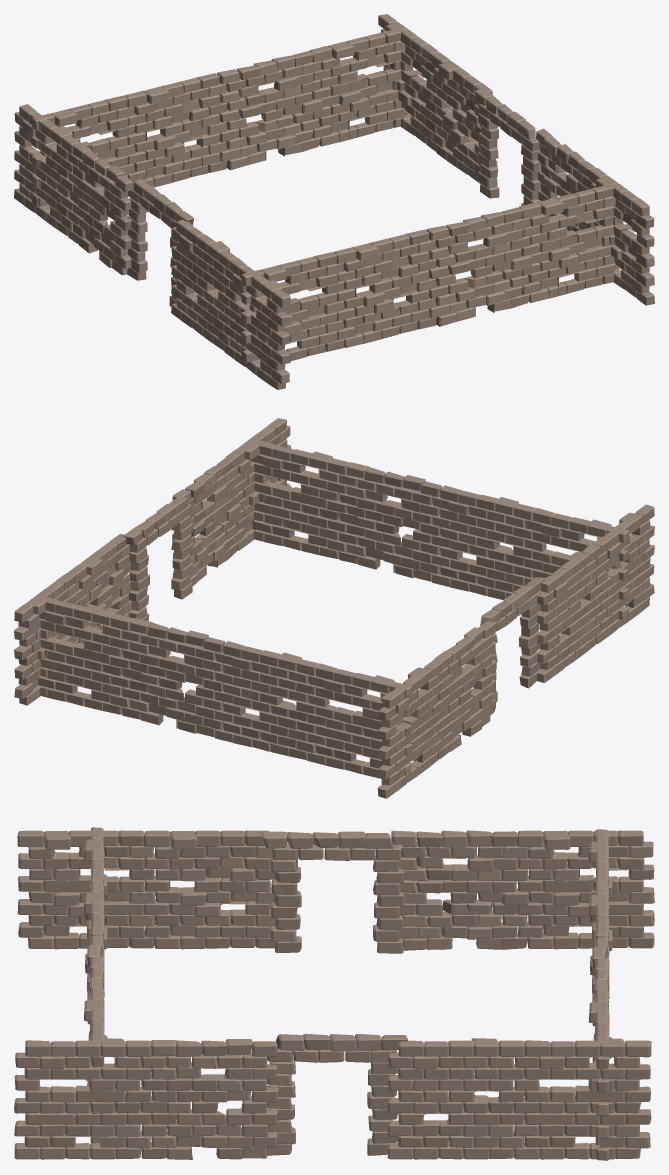
File: Room 1.fbx
The picture shows the model from 3 angles, top to bottom: view 1: azimuth 30°, elevation 25°; view 2: azimuth 150°, elevation 25°; view 3: azimuth 270°, elevation 25°; orthographic projection. The views are drawn at different scales.
Visible parts, largest first — view 1: Kamer 2; view 2: Kamer 2; view 3: Kamer 2.
Part boxes in pixels (left/top/right/bottom): Kamer 2: left=14, top=14, right=654, bottom=389; Kamer 2: left=14, top=418, right=654, bottom=798; Kamer 2: left=14, top=827, right=654, bottom=1160.
Size of the model in its own units: 8319 by 2059 by 10204.
